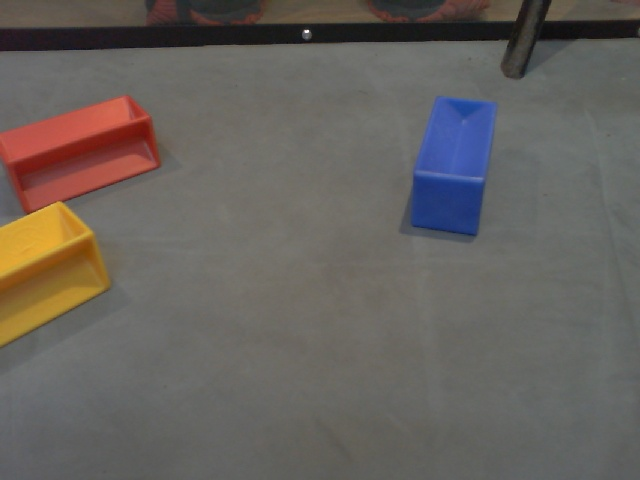BlueSample: (407, 92, 499, 240)
RedSample: (1, 90, 166, 216)
YellowSample: (1, 198, 113, 353)
